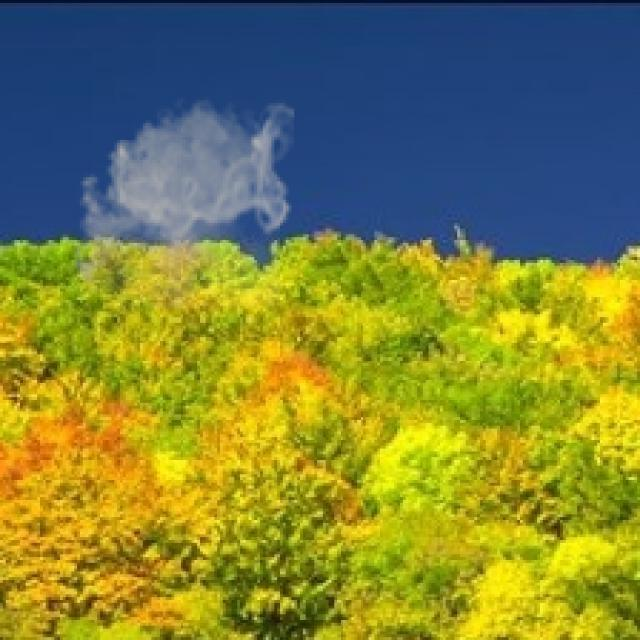Smoke: (66, 92, 294, 308)
